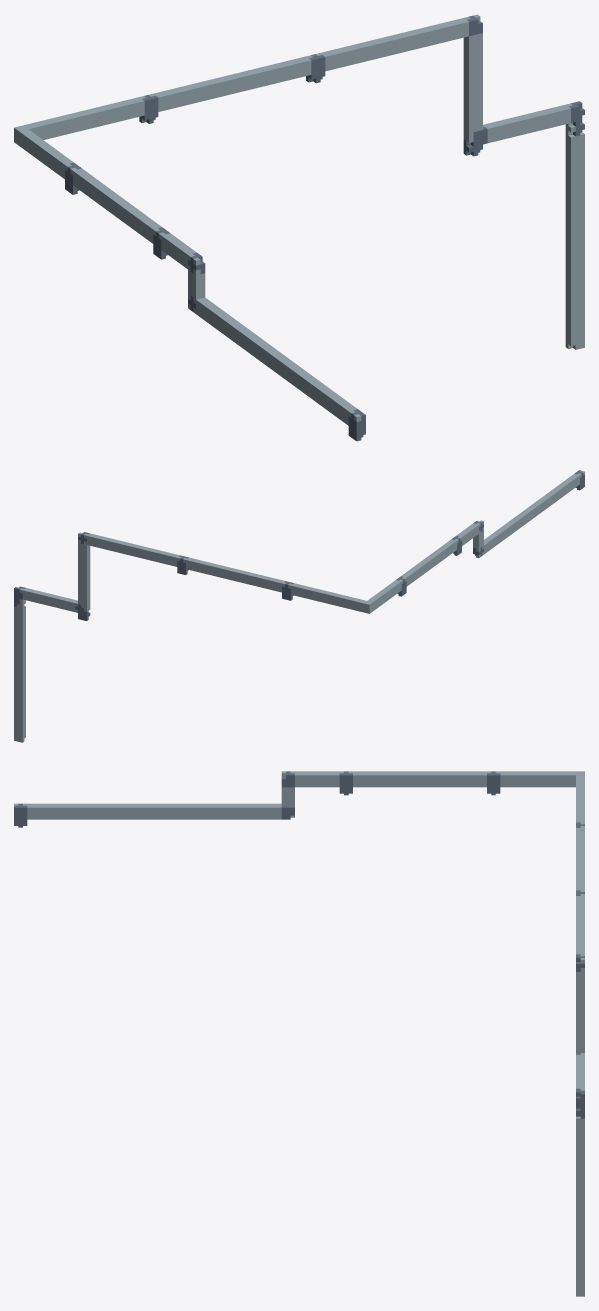
The model's file is Pipes.glb.
3 views of the same model, one above another, from view 1: azimuth 30°, elevation 25°; view 2: azimuth 150°, elevation 25°; view 3: azimuth 270°, elevation 25° (orthographic). The views are drawn at different scales.
Visible parts, largest first — view 1: Pipes; view 2: Pipes; view 3: Pipes.
Part boxes in pixels (bbox=[...]): Pipes: bbox=[14, 14, 584, 441]; Pipes: bbox=[14, 470, 584, 742]; Pipes: bbox=[14, 771, 584, 1296].
Bounding box in the file's own units: 11.47 × 6.86 × 12.03.
1 material, 1 textured.
